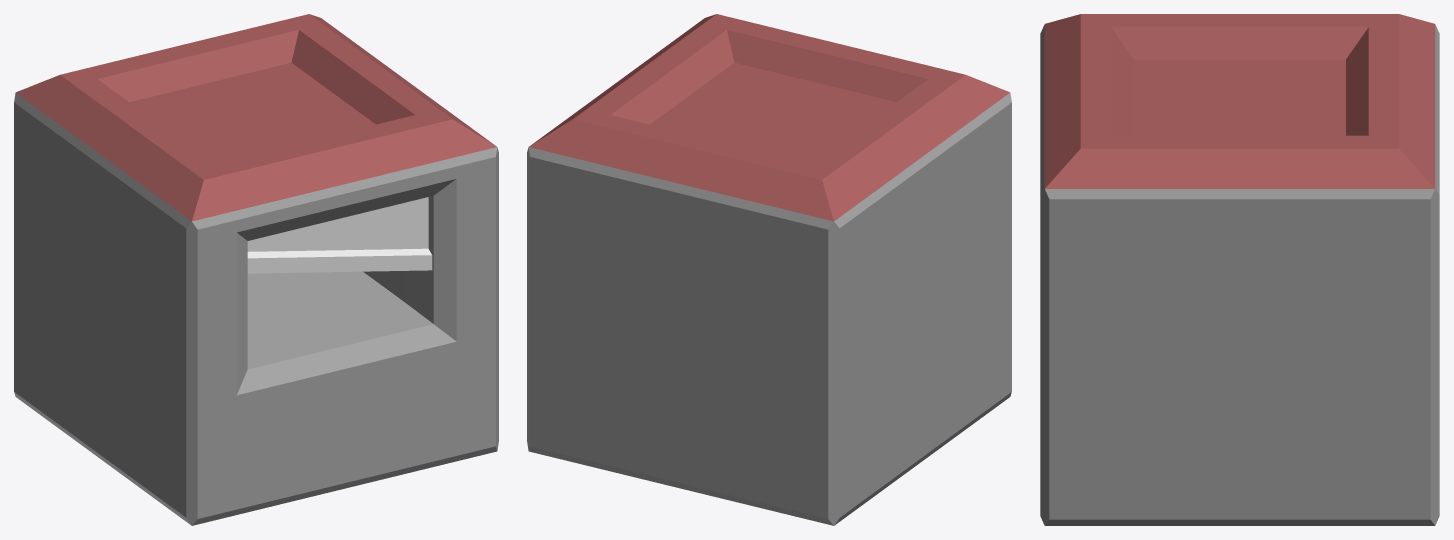
Rendered from SM_Extractor.fbx.
The picture shows the model from 3 angles, left to right: view 1: azimuth 30°, elevation 25°; view 2: azimuth 150°, elevation 25°; view 3: azimuth 270°, elevation 25°; orthographic projection. The views are drawn at different scales.
Visible parts, largest first — view 1: Extractor; view 2: Extractor; view 3: Extractor.
Part boxes in pixels (x1,y1,x2,y2): Extractor: (14, 14, 498, 525); Extractor: (527, 14, 1011, 525); Extractor: (1040, 14, 1439, 525).
Bounding box in the file's own units: 100 × 100 × 100.
